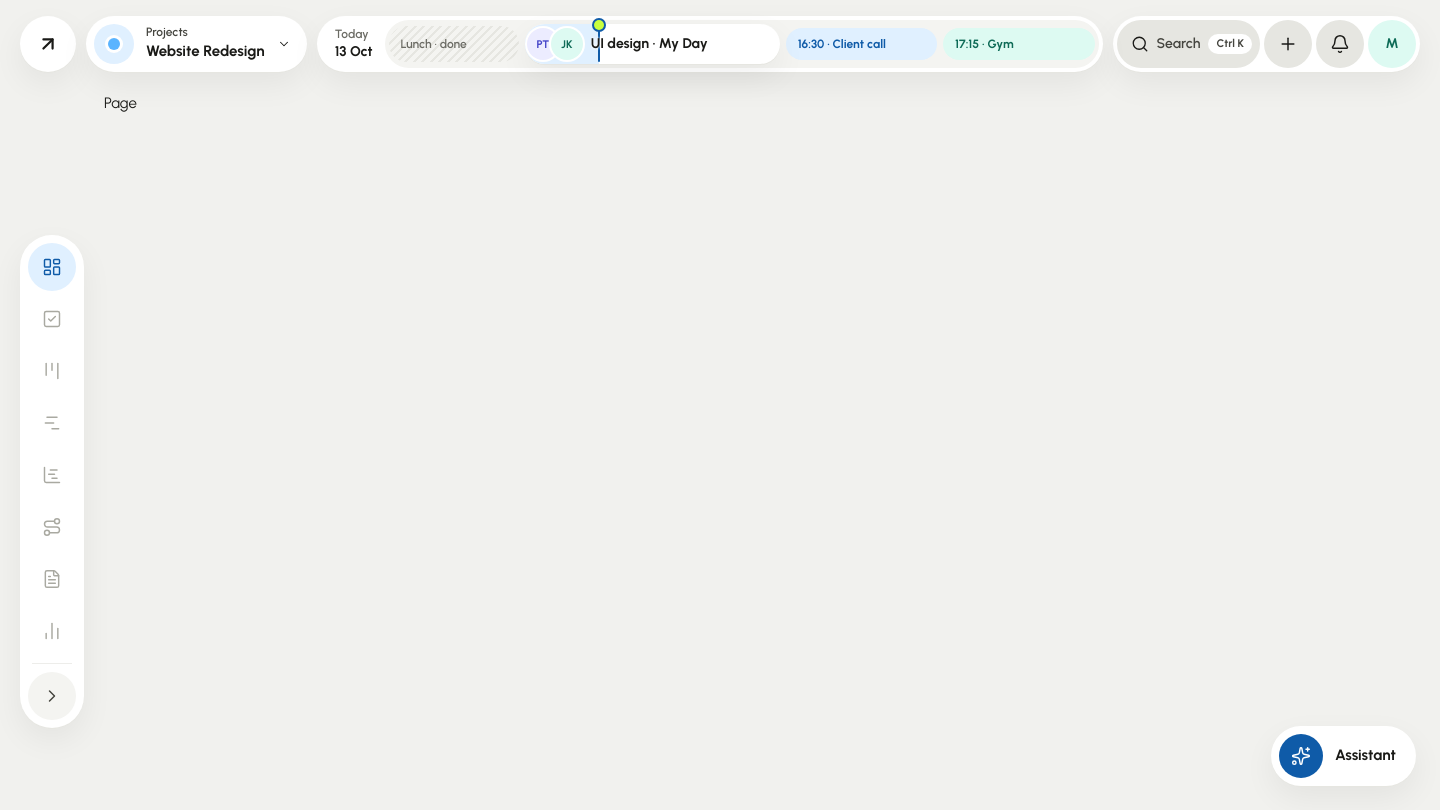
Test: profile menu › keeps quick create non-modal too (Projects)
Click the button named "Quick create" at [1288, 44], box [1264, 20, 1312, 68]
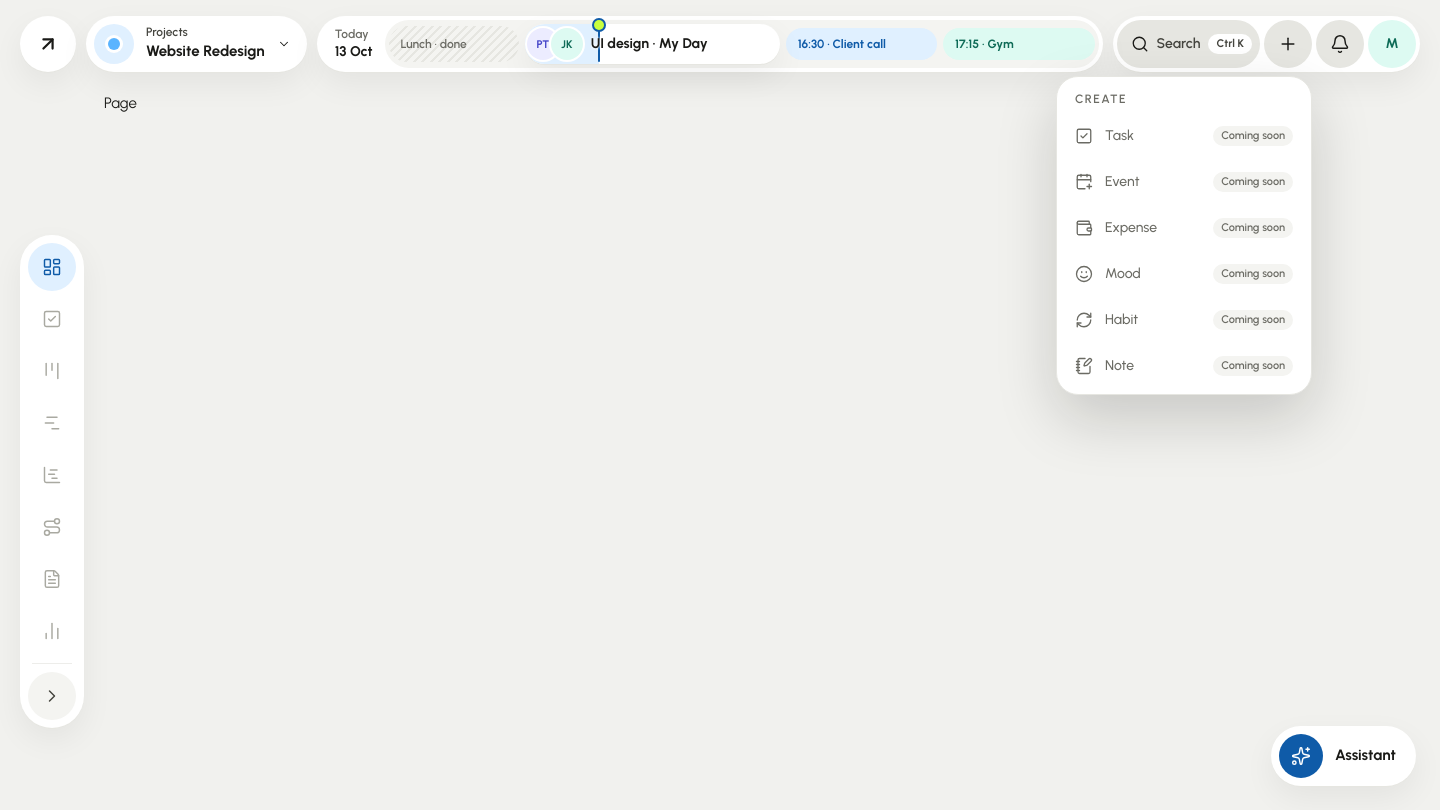
Expected: the menu is shown, [1056, 76, 1312, 395]
Press Escape
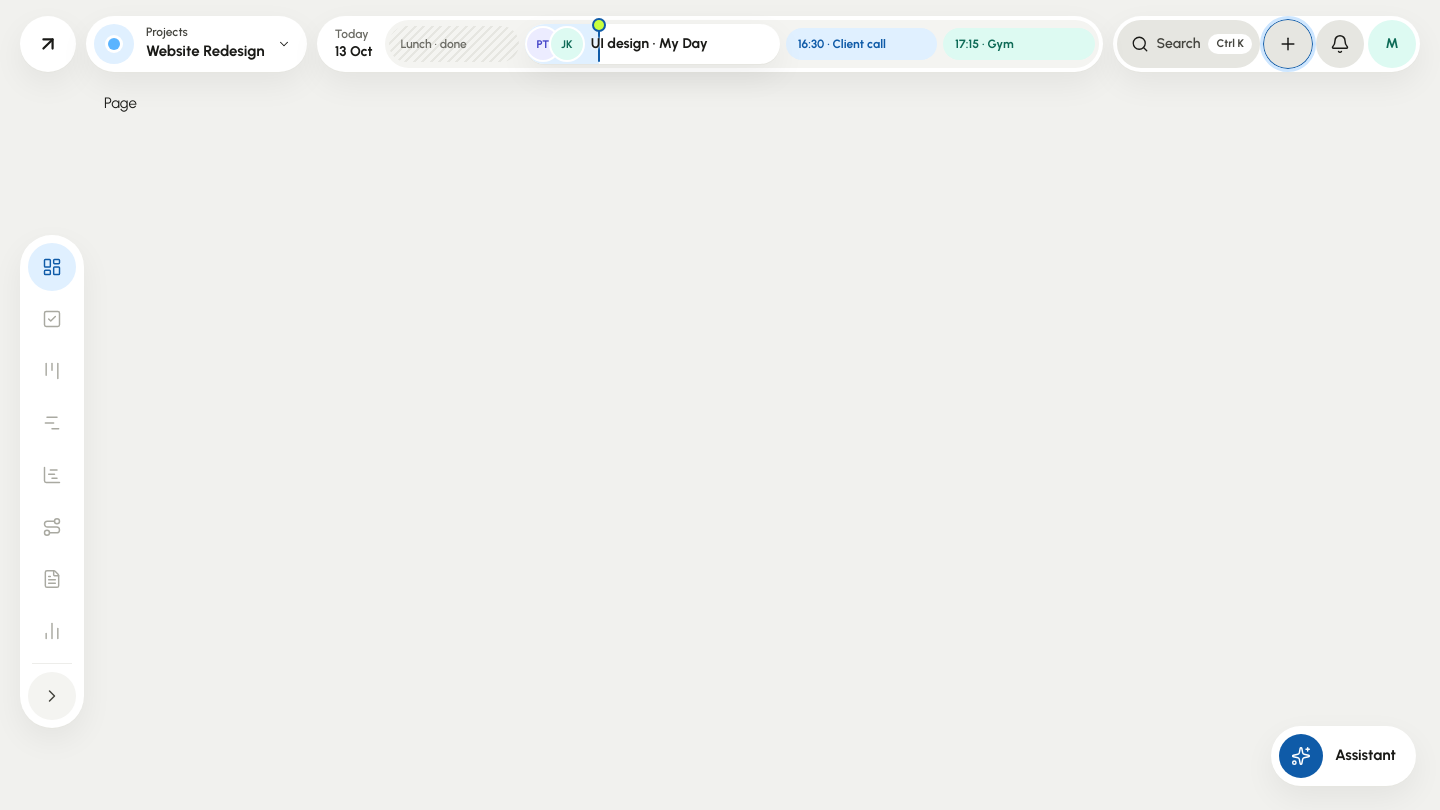
Expected: the menu is gone
